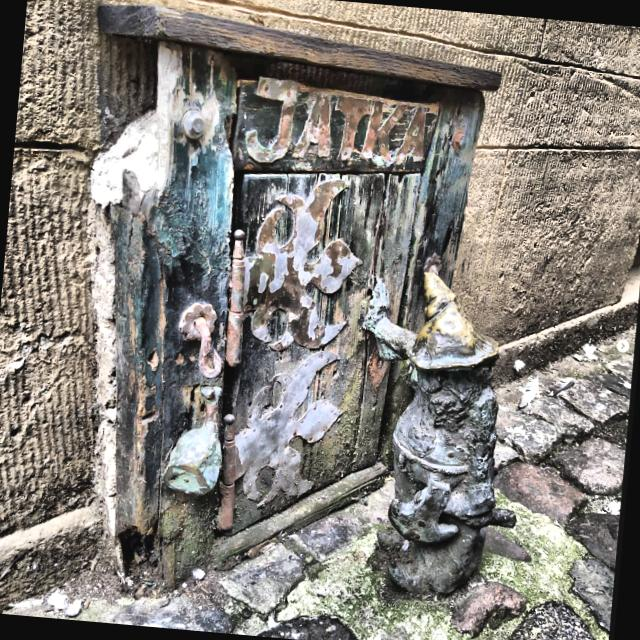Rzeznik: (363, 255, 515, 594)
